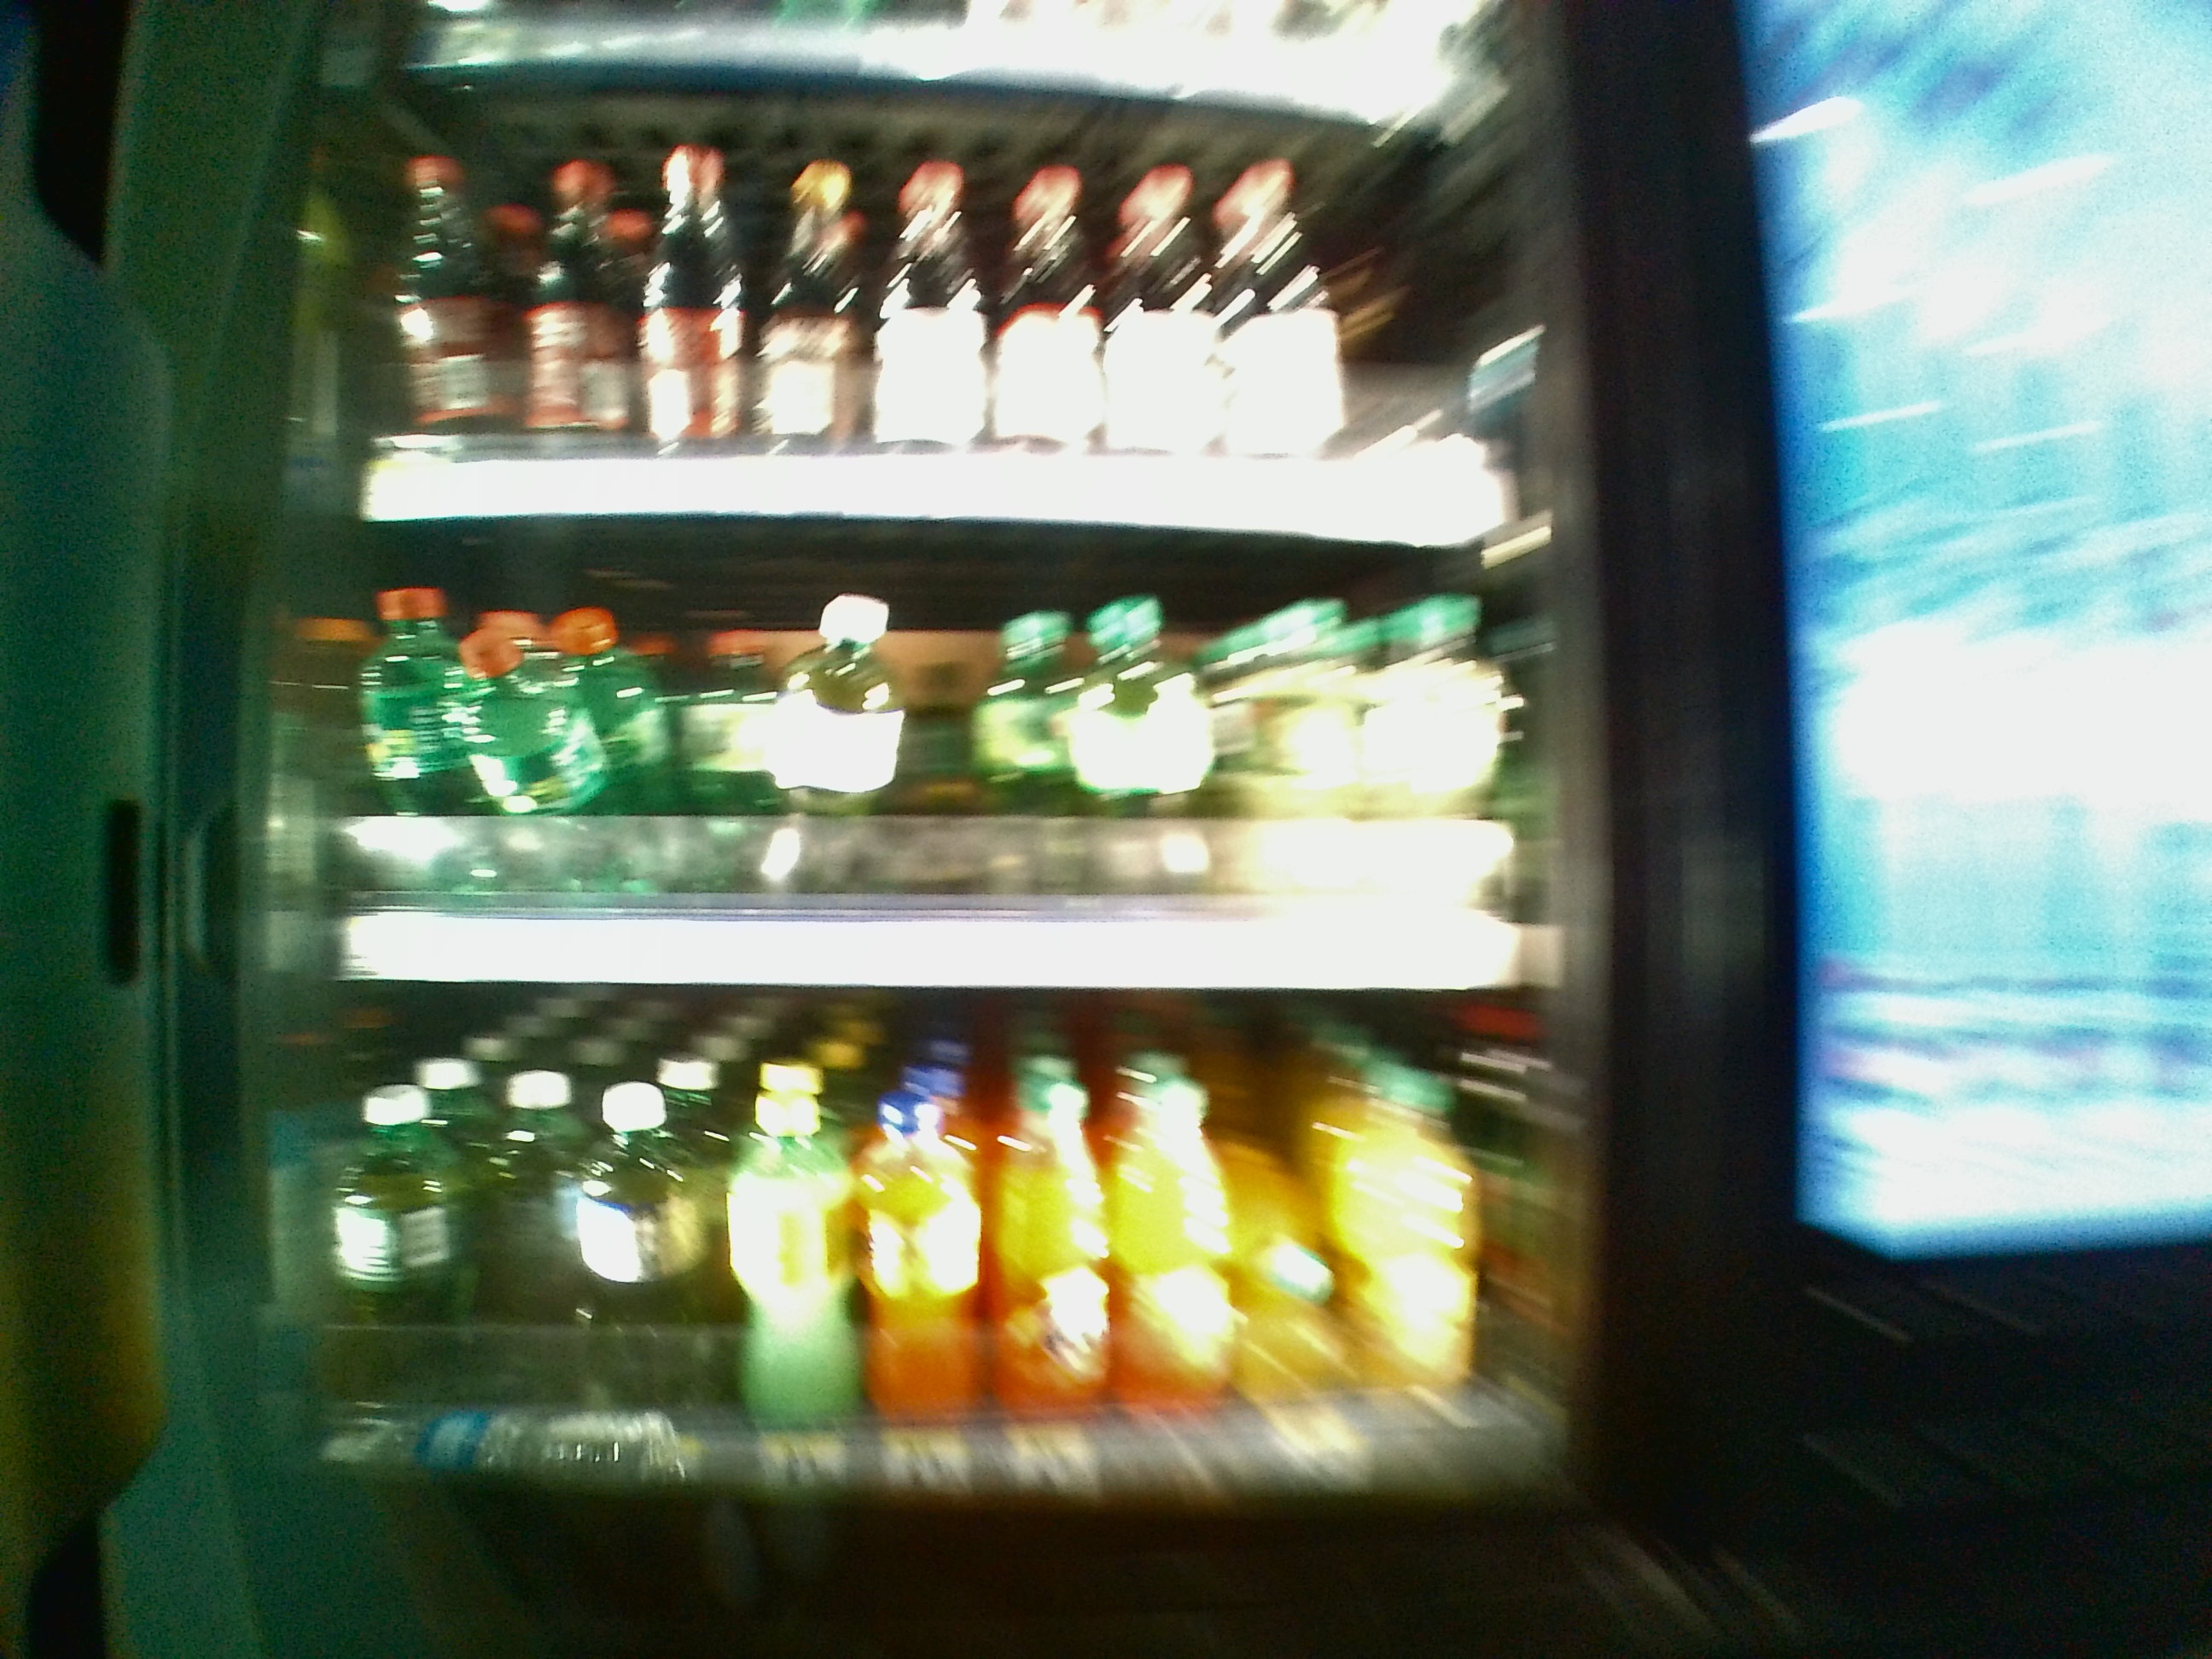Shelf: (310, 985, 1575, 1490), (315, 516, 1569, 988)
